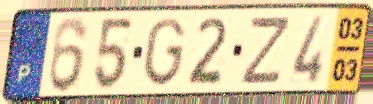2: (185, 15, 229, 89)
4: (290, 13, 326, 86)
5: (91, 14, 137, 93)
6: (47, 14, 90, 95)
G: (141, 16, 188, 90)
Z: (237, 14, 294, 87)
